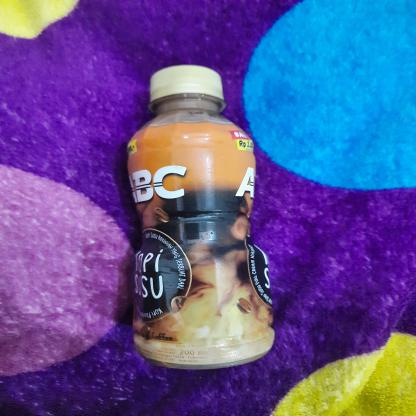bottle: (122, 62, 282, 370)
